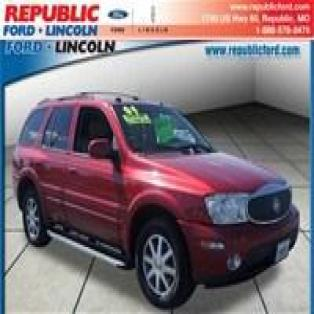Auto: (6, 84, 303, 312)
